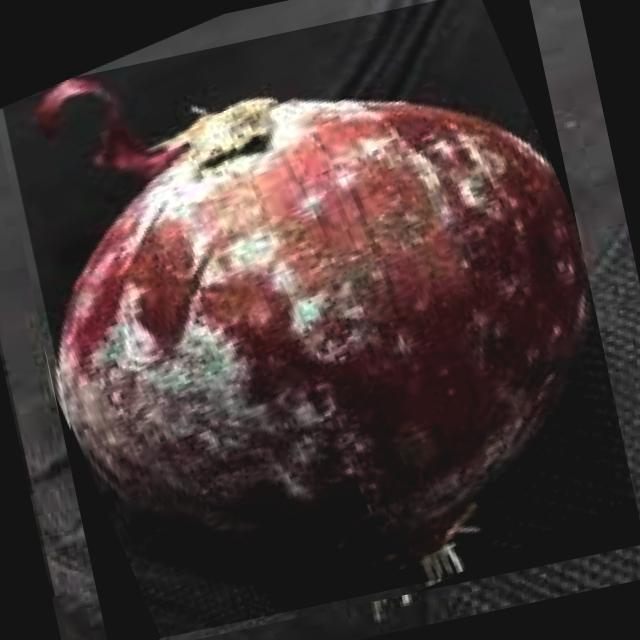rotten: (37, 78, 586, 580)
